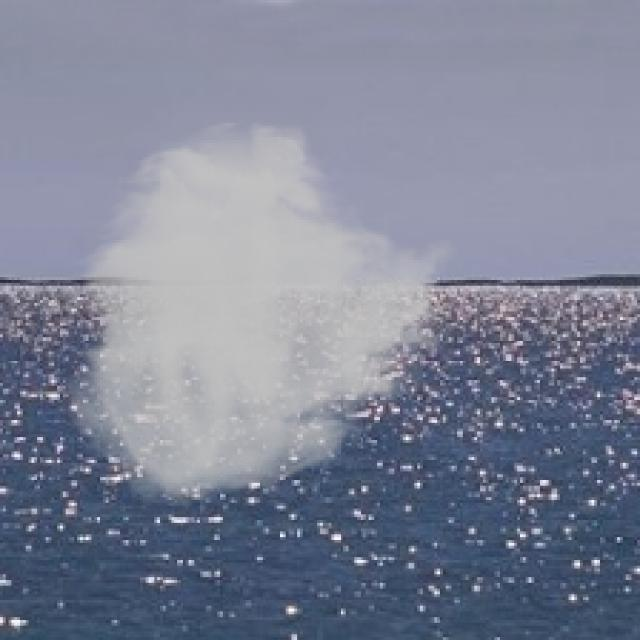smoke: (63, 117, 460, 509)
